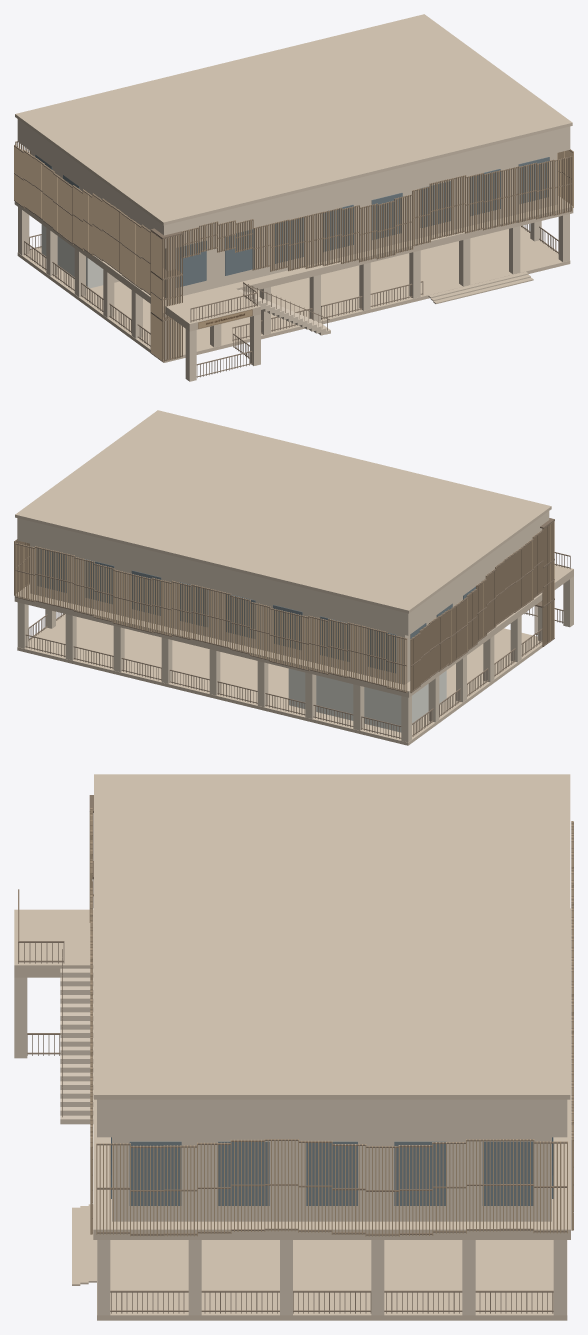
3 renders of one model, top to bottom at view 1: azimuth 30°, elevation 25°; view 2: azimuth 150°, elevation 25°; view 3: azimuth 270°, elevation 25°, orthographic. The views are drawn at different scales.
Parts seen in each view (by area): view 1: VRU_50th_Anniversary_Building; view 2: VRU_50th_Anniversary_Building; view 3: VRU_50th_Anniversary_Building.
Part boxes in pixels (box(x1,y1,x2,y2)): VRU_50th_Anniversary_Building: box(14, 14, 573, 381); VRU_50th_Anniversary_Building: box(14, 410, 573, 745); VRU_50th_Anniversary_Building: box(14, 774, 573, 1320).
Bounding box in the file's own units: 32.58 × 10.65 × 23.8.
8 materials, 1 textured.
